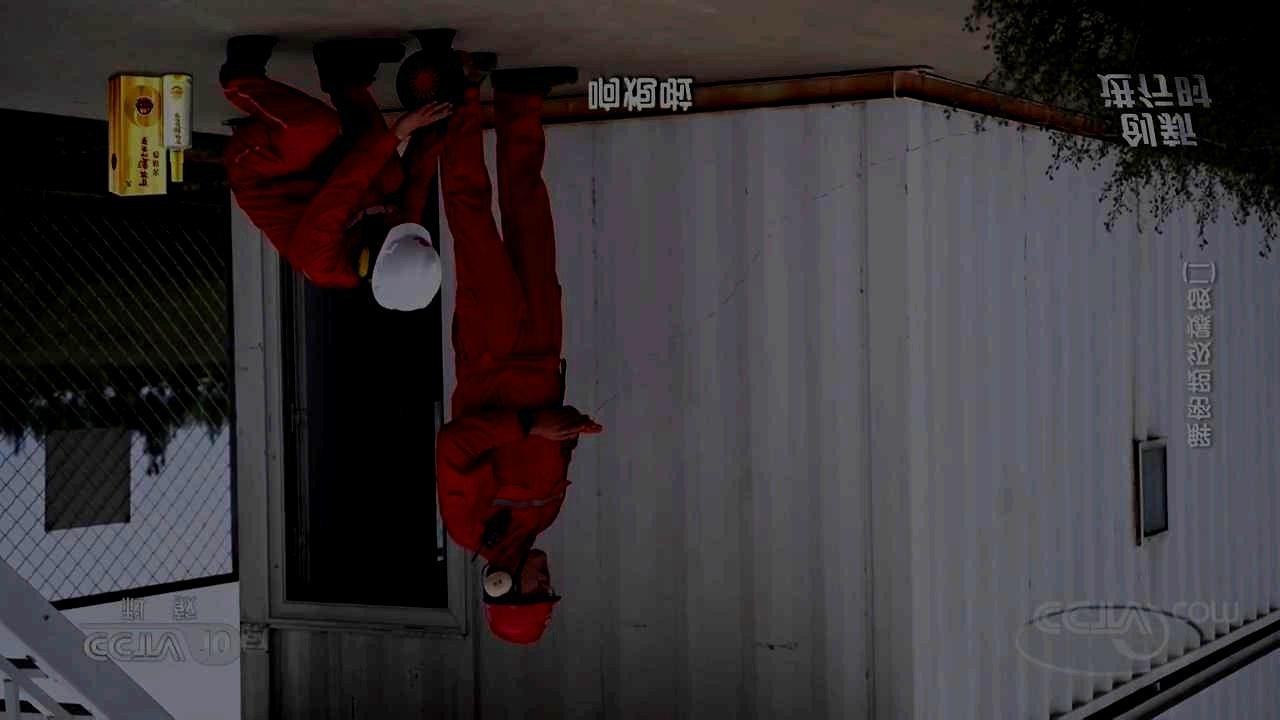helmet: (480, 547, 563, 648), (358, 222, 443, 312)
